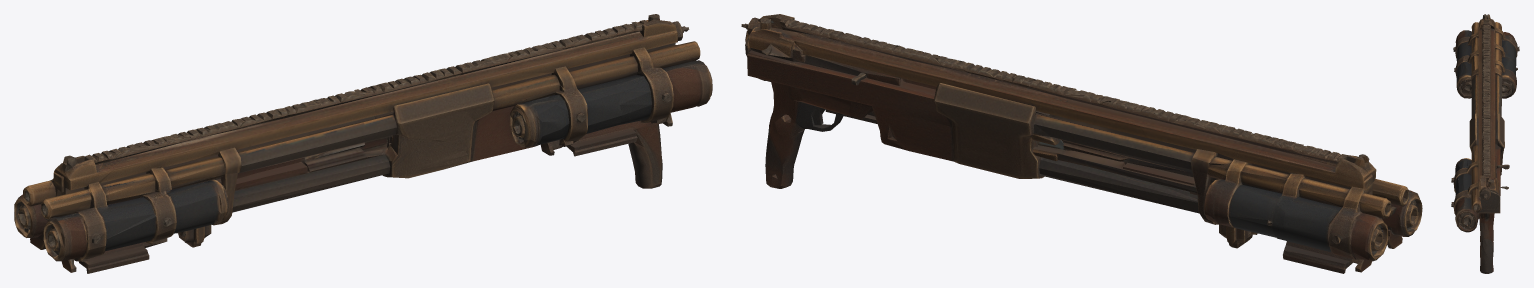
The model's file is scattergun.glb.
The picture shows the model from 3 angles, left to right: view 1: azimuth 30°, elevation 25°; view 2: azimuth 150°, elevation 25°; view 3: azimuth 270°, elevation 25°; orthographic projection. The views are drawn at different scales.
Visible parts, largest first — view 1: mesh_node; view 2: mesh_node; view 3: mesh_node.
Part boxes in pixels (x1,y1,x2,y2): mesh_node: (14,14,712,273); mesh_node: (741,14,1422,273); mesh_node: (1451,14,1519,273).
Size of the model in its own units: 1.9 by 0.478 by 0.303.
Materials: 1 (1 with a texture image).
